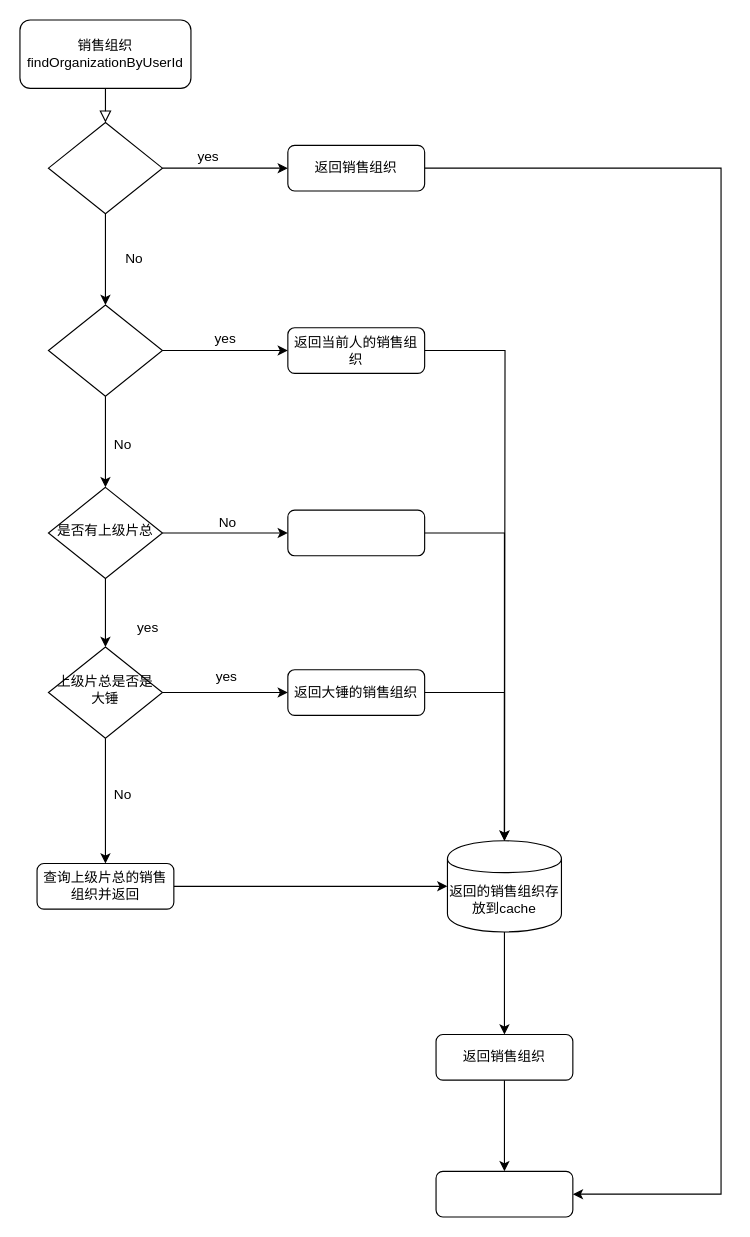
Some shapes in this 750 by 1237 pixel diagram are drawn without their labels. Each missing label, with the centre of its shape:
"当前人是否是员工" belongs at pixel 104 350.
"查询cache" belongs at pixel 104 167.
"结束" belongs at pixel 504 1193.
"返回null" belongs at pixel 356 532.
